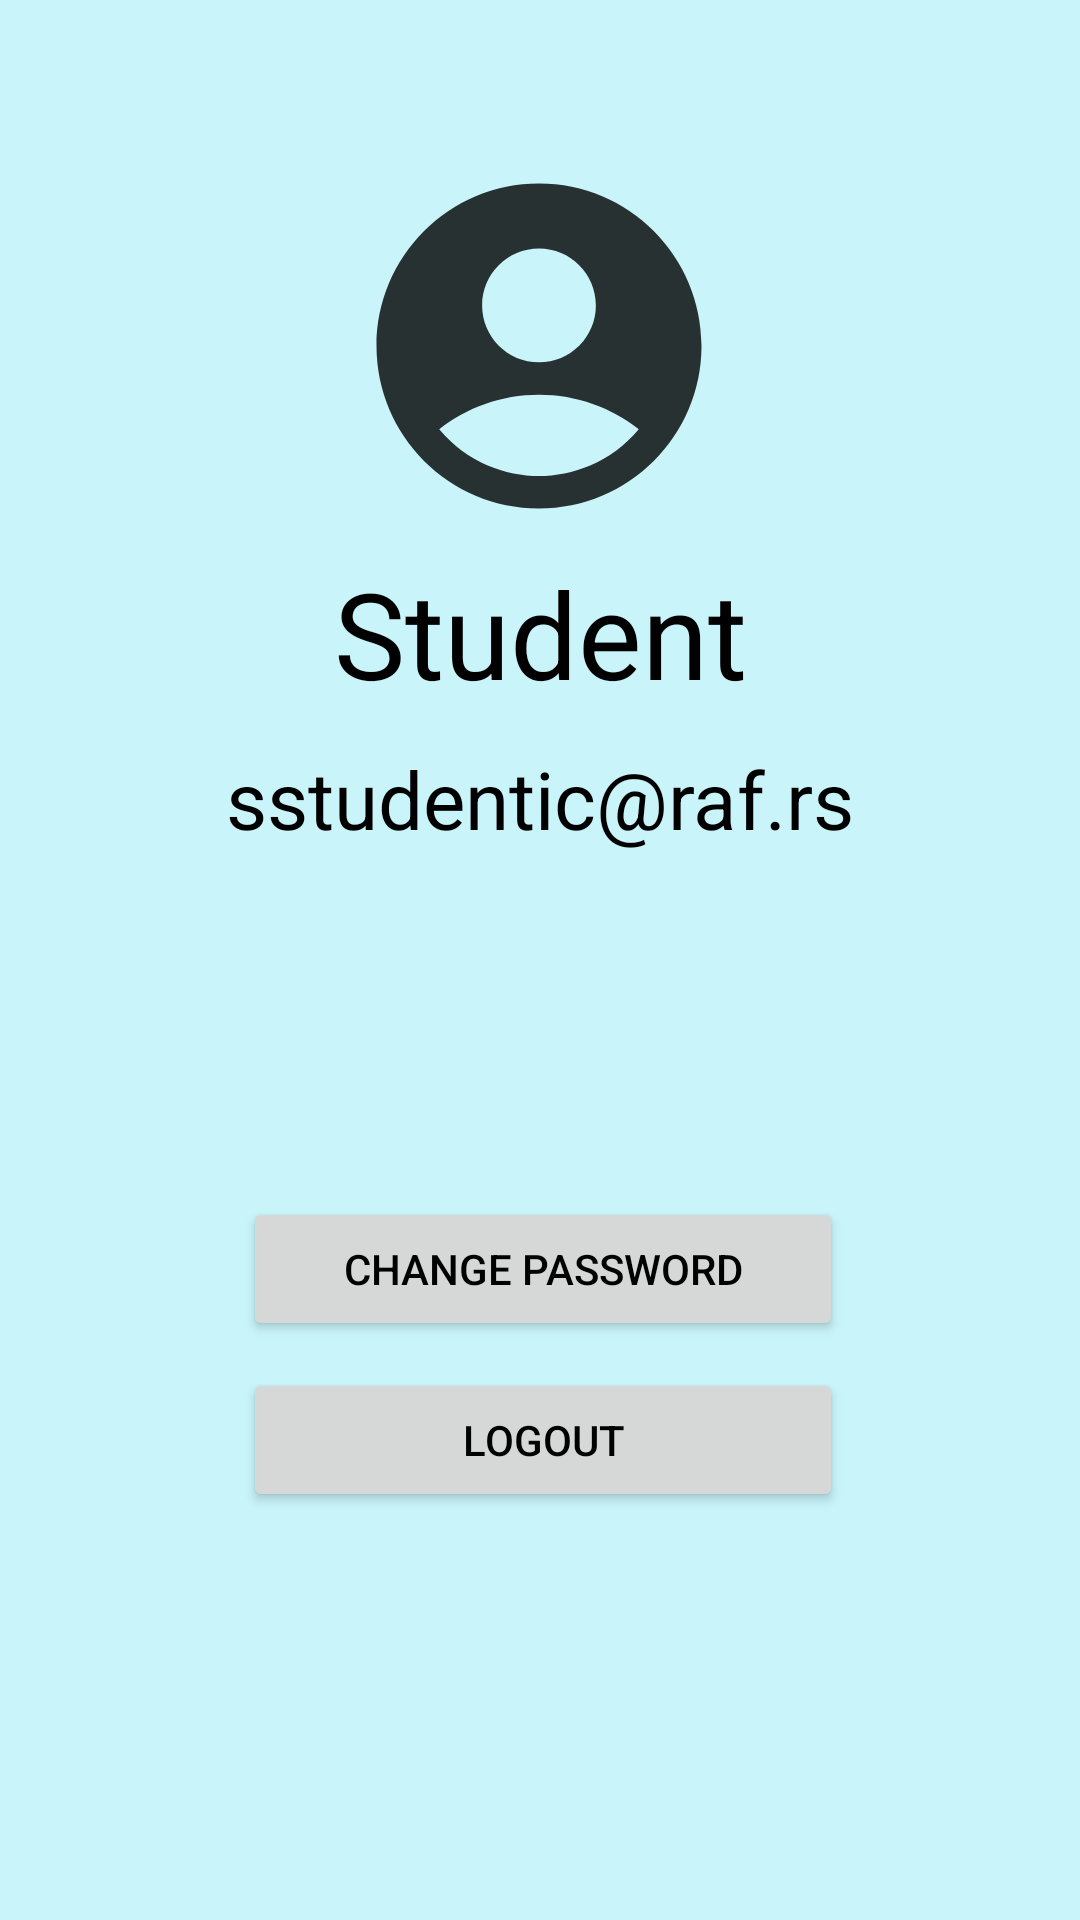

Icon click points for this 1080px x 1920px phone screenshot, format (x,y):
account profilefrag: (539,346)
